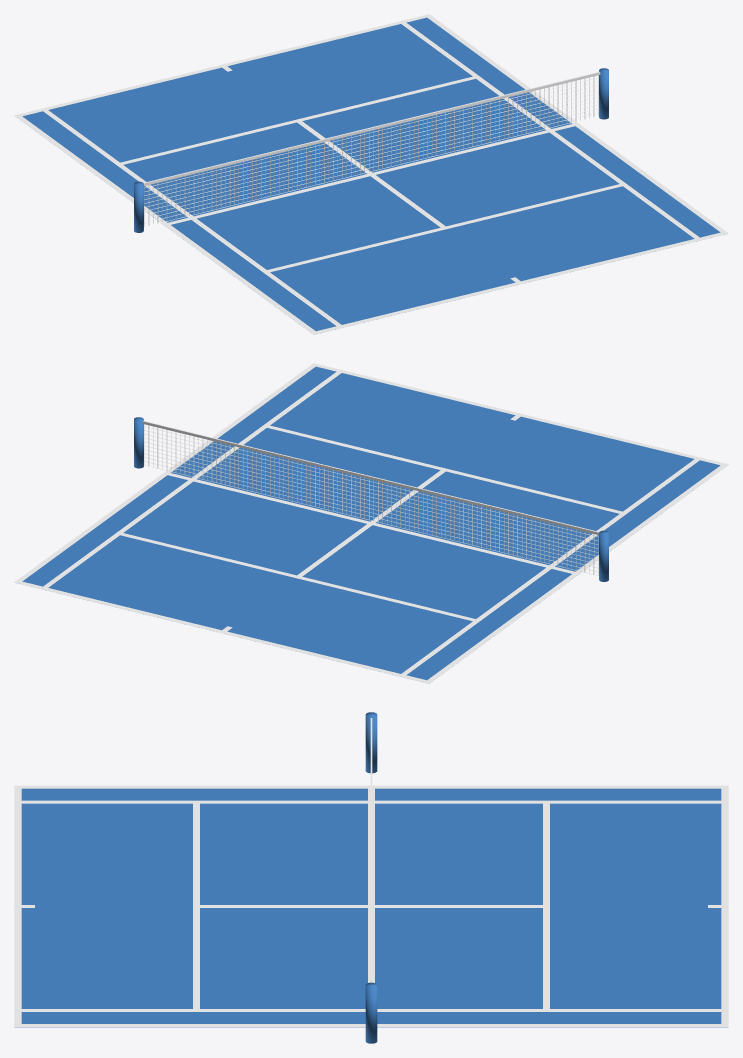
The model's file is court.glb.
3 renders of one model, top to bottom at view 1: azimuth 30°, elevation 25°; view 2: azimuth 150°, elevation 25°; view 3: azimuth 270°, elevation 25°, orthographic. The views are drawn at different scales.
Visible parts, largest first — view 1: 平面, 平面.007, 平面.001, 平面.006, 平面.005, 平面.004, 立方体, 平面.003, 円柱, 平面.002; view 2: 平面, 平面.007, 平面.001, 平面.006, 平面.005, 平面.004, 立方体, 平面.003, 円柱, 平面.002; view 3: 平面, 平面.001, 平面.006, 平面.005, 平面.004, 円柱, 平面.003, 平面.002, 立方体.
Boxes of the visible parts, x1,y1,x2,y2 form: 平面: (22,17,723,334); 平面.007: (144,75,598,226); 平面.001: (15,14,728,334); 平面.006: (43,21,702,328); 平面.005: (14,14,727,333); 平面.004: (115,75,627,273); 立方体: (143,71,600,185); 平面.003: (163,123,580,225); 円柱: (134,68,608,232); 平面.002: (294,119,448,229); 平面: (19,366,720,683); 平面.007: (144,424,598,575); 平面.001: (15,363,728,683); 平面.006: (40,371,701,676); 平面.005: (14,363,728,683); 平面.004: (115,424,627,622); 立方体: (142,420,599,534); 平面.003: (163,471,579,574); 円柱: (134,417,608,581); 平面.002: (294,468,448,578); 平面: (14,788,728,1027); 平面.001: (14,785,728,1026); 平面.006: (14,800,728,1011); 平面.005: (14,785,728,1026); 平面.004: (193,800,549,1011); 円柱: (365,712,377,1043); 平面.003: (368,786,374,982); 平面.002: (200,905,542,907); 立方体: (370,718,372,982).
Bounding box in the file's own units: 9.13 × 0.8747 × 10.01.
